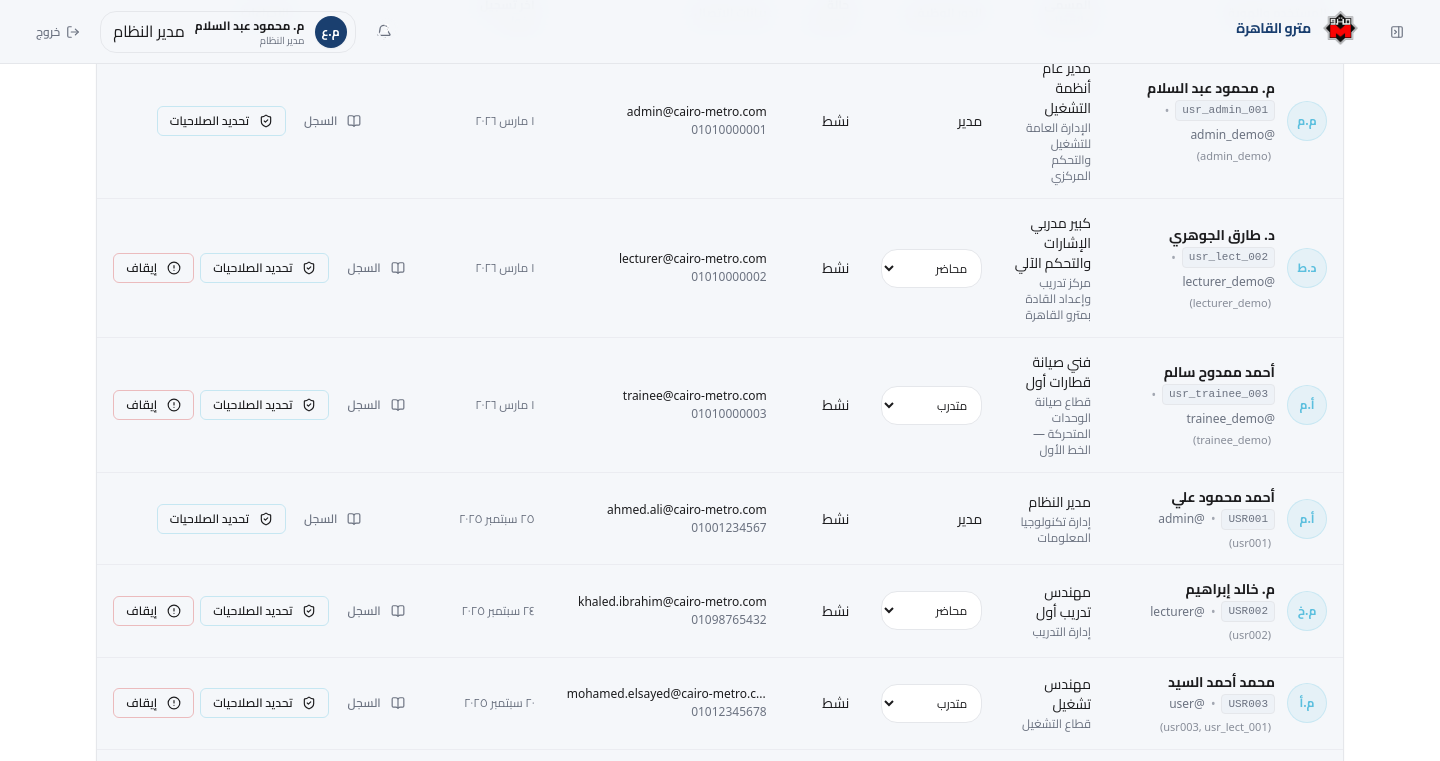
Test: Increment 11 — Phase 3: User Detail Transcript & Historical Progress Aggregator › 5. Directory Entry Point & Safe Navigation › navigates from user directory to user details page when clicking view transcript button
(page scrolled)
What coordinates should you click on to do the following:
click the link with test id "user-transcript-btn-usr_trainee_003"
I would click on:
 (376, 405)
Its box is [336,391,417,419].
(page scrolled)
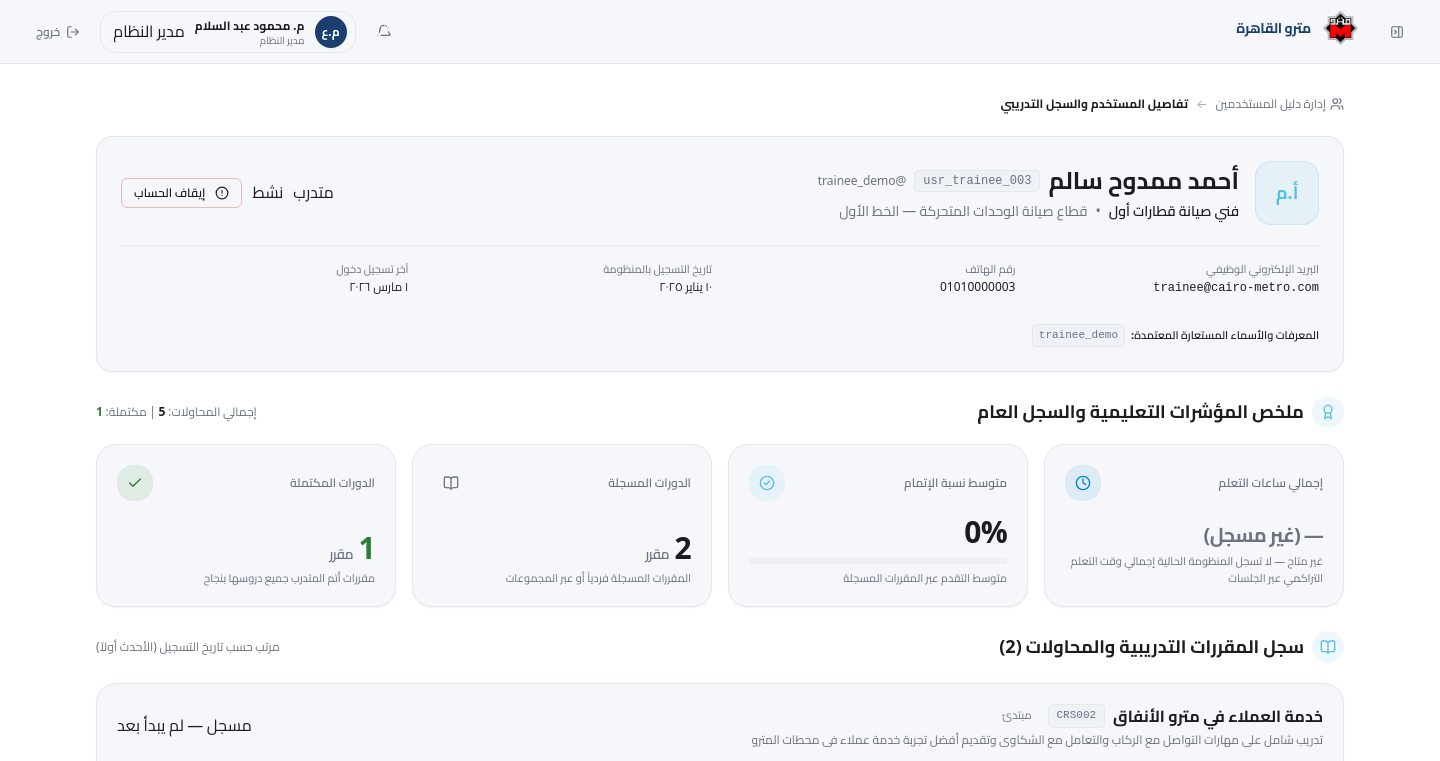
Check: the element with test id "user-profile-header" shows "أحمد ممدوح", box [1048,158,1239,203]
